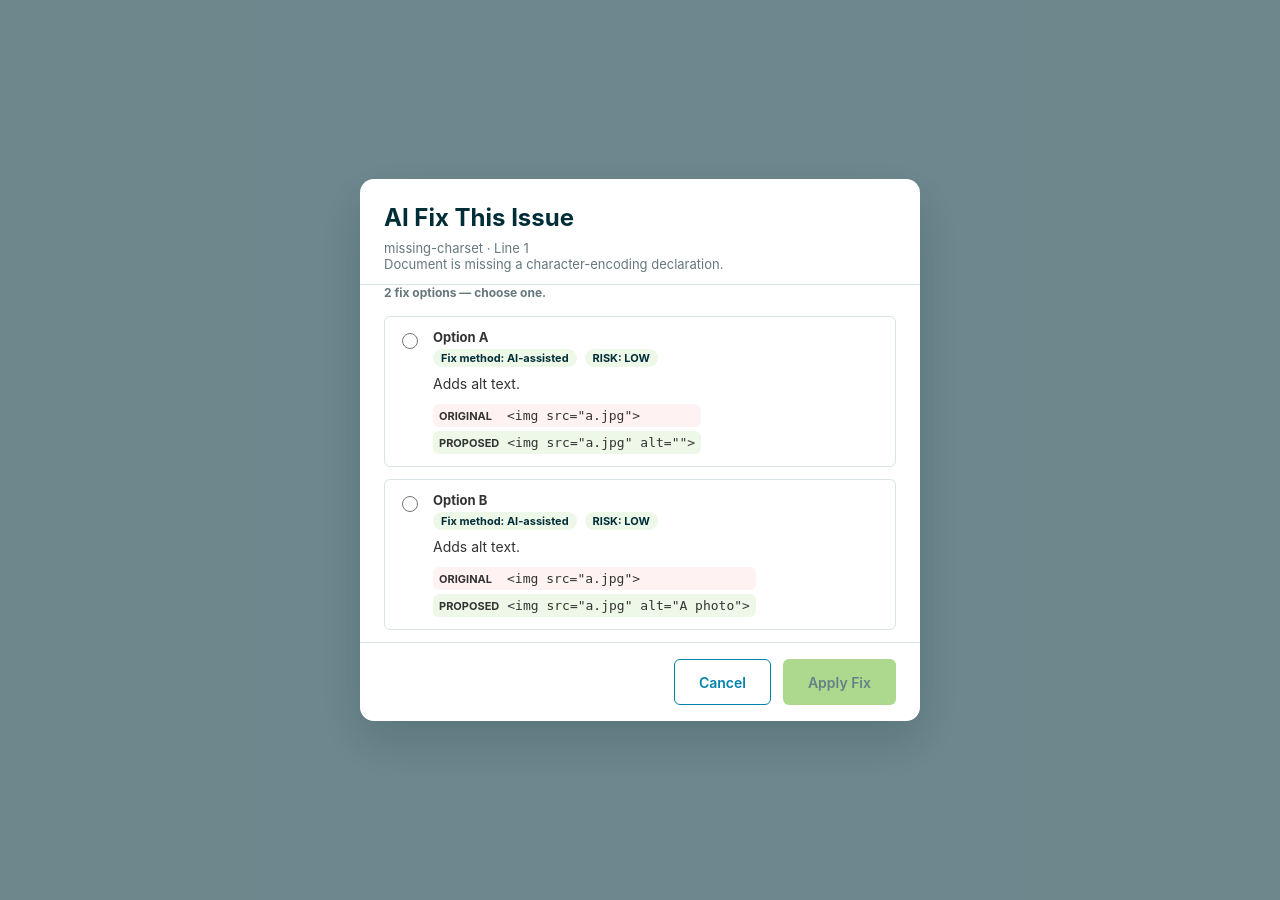
Test case: IssueFixDialog › presents radio alternatives for two safe AI proposals and requires a selection before Apply enables
The image size is (1280, 900).
Expected: the button "Apply Fix" is disabled, x1=783 y1=659 x2=896 y2=705
Click the 2nd radio button at coordinates (410, 504), box x1=402 y1=496 x2=418 y2=512
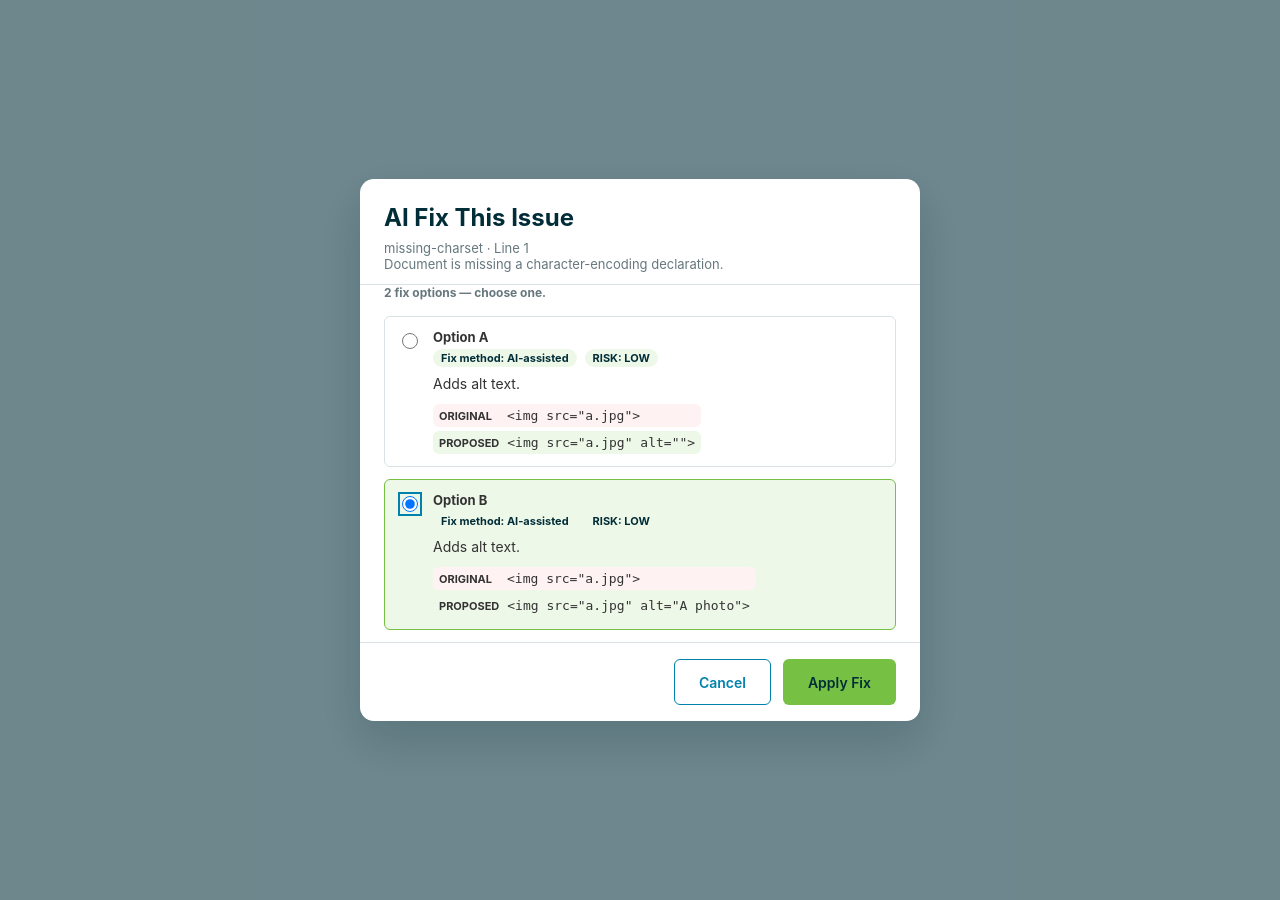
Now the button "Apply Fix" is enabled, box x1=783 y1=659 x2=896 y2=705
